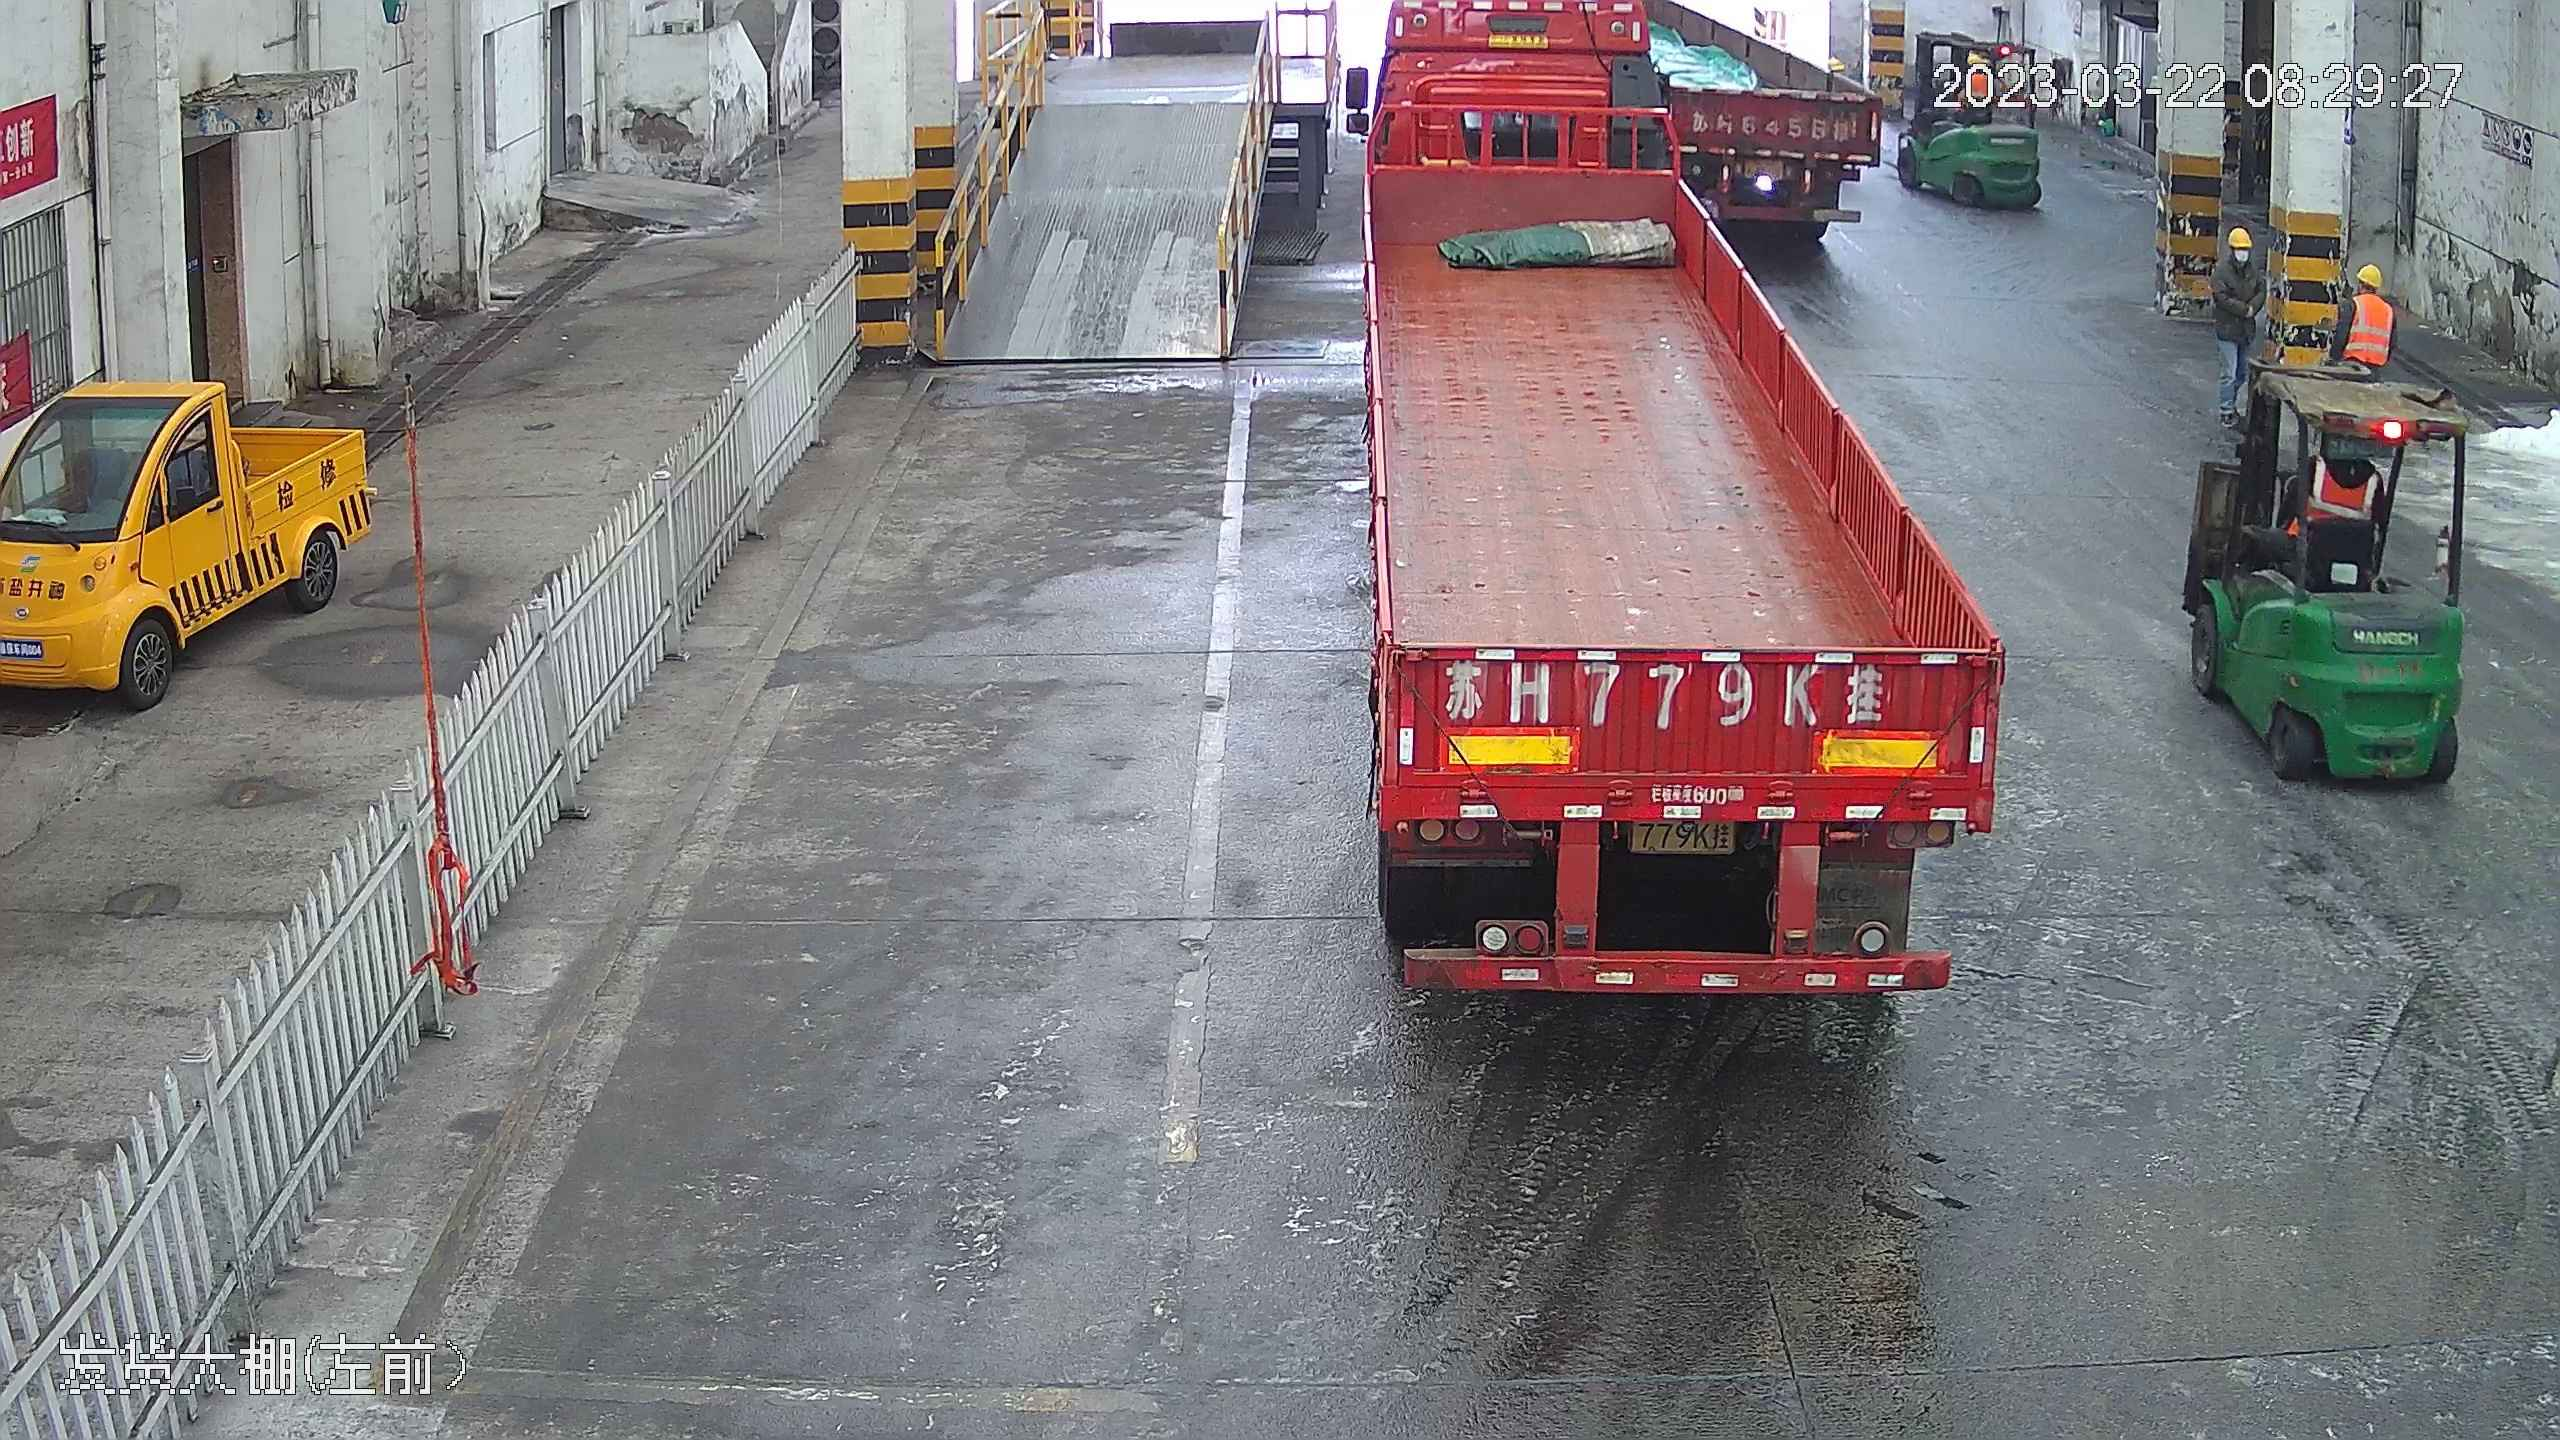head: (2342, 261, 2392, 327), (2215, 226, 2265, 282)
helmet: (2357, 262, 2385, 286), (2225, 224, 2253, 246)
people: (2210, 220, 2270, 399)
truck: (1339, 1, 2034, 1003), (1641, 0, 1888, 236)
